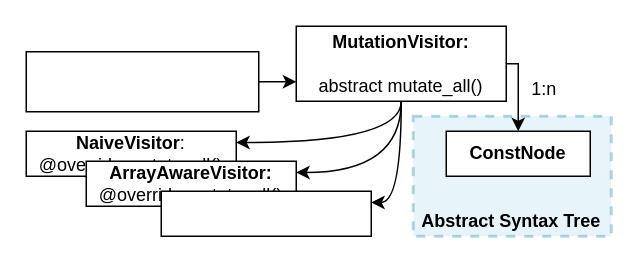
This 642x270 diagram has some shape labels left out. The shapes that lost their labels are listed below. From the top down, each one's centre as x and y in pixels, then its label:
At point (142, 81): "Mutator".
At point (265, 213): "YourOwnVisitor: @override mutate_all()".
